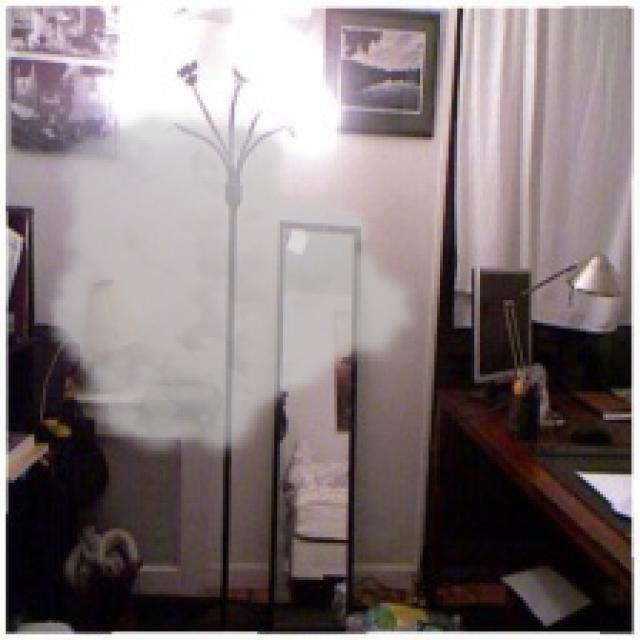Smoke: (43, 108, 426, 466)
